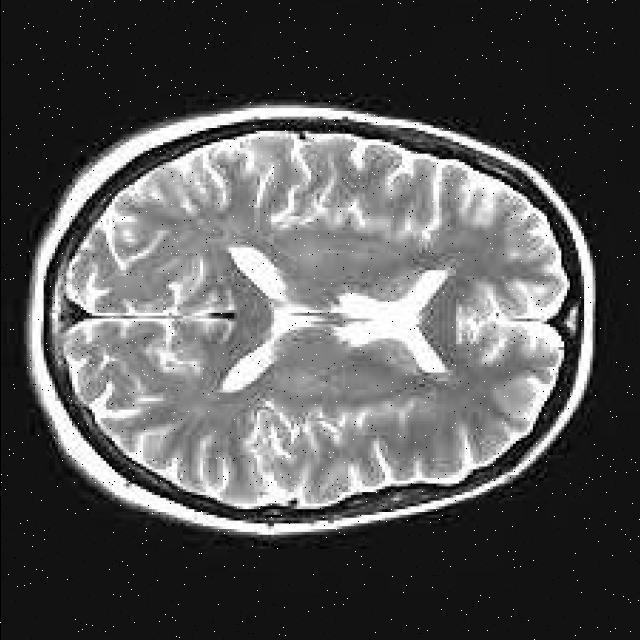No_Tumor: (29, 105, 594, 535)
